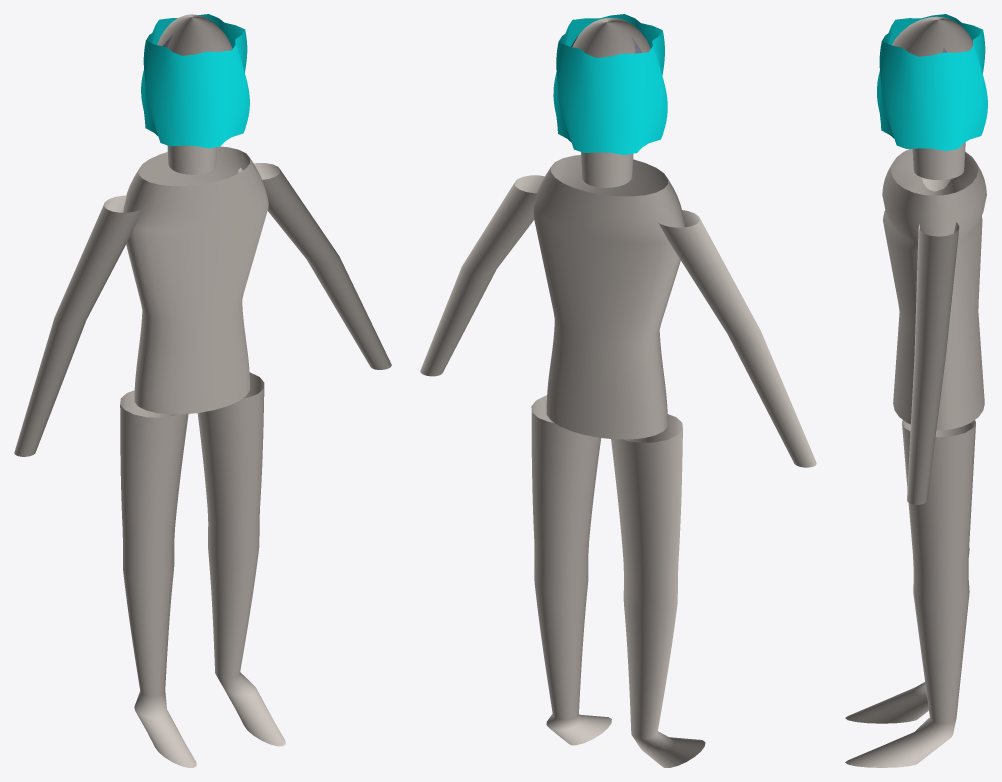
The model's file is avatar-base.glb.
3 views of the same model, side by side, from view 1: azimuth 30°, elevation 25°; view 2: azimuth 150°, elevation 25°; view 3: azimuth 270°, elevation 25° (orthographic). The views are drawn at different scales.
Visible parts, largest first — view 1: Body_Mesh, Hair_CyberLocks; view 2: Body_Mesh, Hair_CyberLocks; view 3: Body_Mesh, Hair_CyberLocks.
Part boxes in pixels (x1,y1,x2,y2): Body_Mesh: [14, 14, 391, 767]; Hair_CyberLocks: [141, 14, 249, 148]; Body_Mesh: [420, 18, 816, 767]; Hair_CyberLocks: [553, 14, 667, 154]; Body_Mesh: [845, 16, 986, 767]; Hair_CyberLocks: [877, 14, 987, 150].
Size of the model in its own units: 1.01 by 1.82 by 0.3271.
